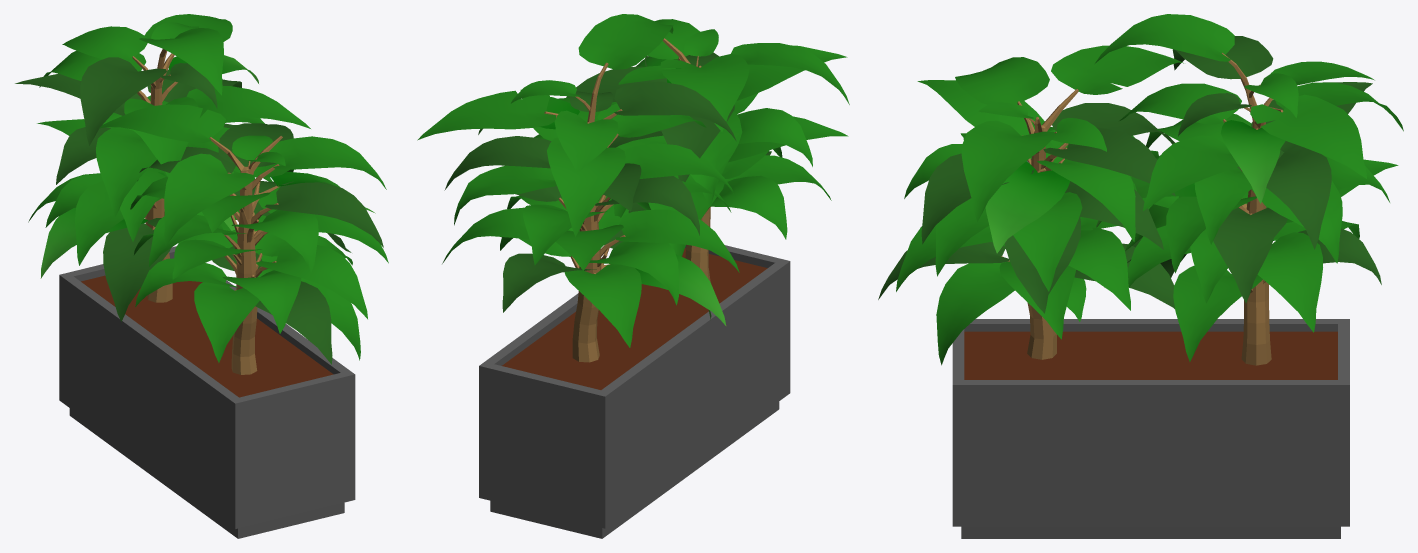
The model's file is airport-rectangular-planter.glb.
The picture shows the model from 3 angles, left to right: view 1: azimuth 30°, elevation 25°; view 2: azimuth 150°, elevation 25°; view 3: azimuth 270°, elevation 25°; orthographic projection. The views are drawn at different scales.
Visible parts, largest first — view 1: 17.10.Model_AIRPORT_0; view 2: 17.10.Model_AIRPORT_0; view 3: 17.10.Model_AIRPORT_0.
Part boxes in pixels (x1=…): 17.10.Model_AIRPORT_0: x1=15, y1=14, x2=388, y2=538; 17.10.Model_AIRPORT_0: x1=417, y1=14, x2=849, y2=538; 17.10.Model_AIRPORT_0: x1=878, y1=14, x2=1403, y2=538.
Size of the model in its own units: 1.01 by 1.63 by 1.63.
1 material, 1 textured.
